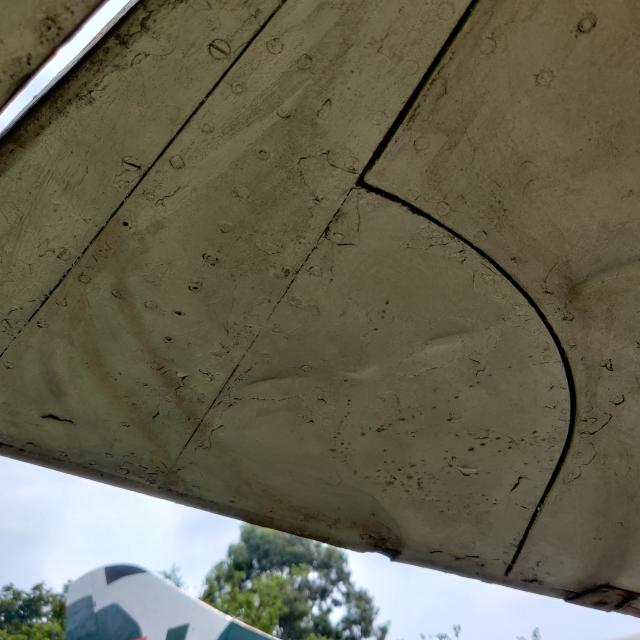dent: (224, 344, 326, 418), (405, 303, 491, 382)
